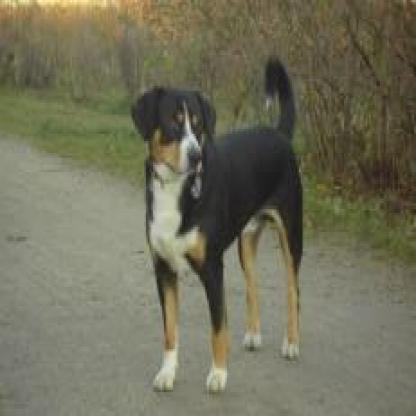EntleBucher: (132, 46, 302, 392)
